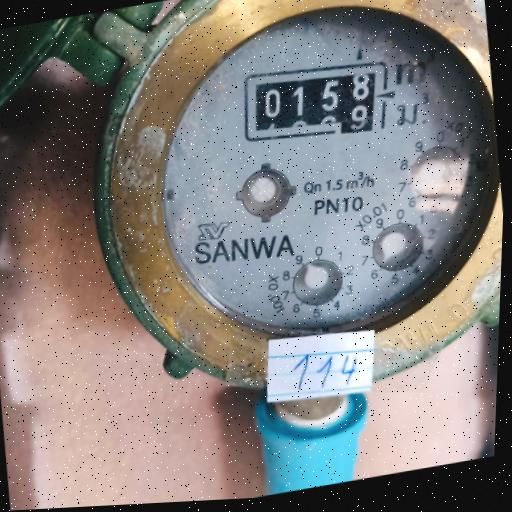0: (250, 78, 292, 133)
1: (279, 75, 323, 131)
5: (310, 73, 348, 128)
8: (334, 70, 382, 137)
border_water_meter_number: (237, 51, 396, 154)
